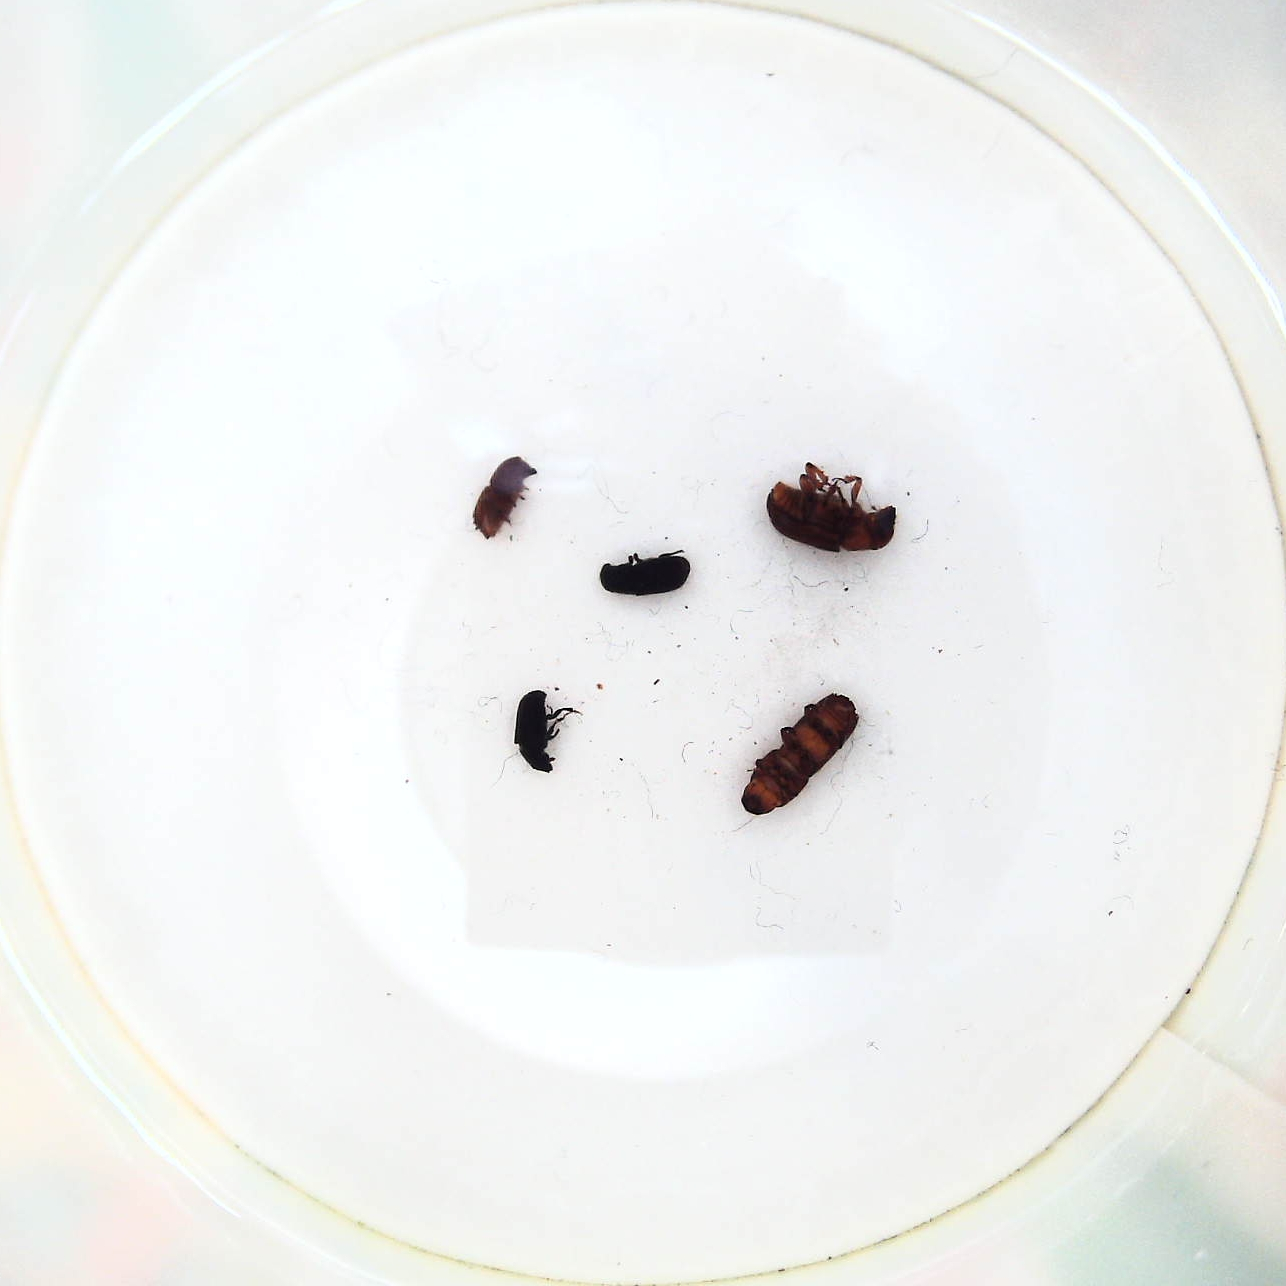Boerner: (740, 690, 866, 818)
Leconte: (761, 460, 900, 561)
armandi: (591, 553, 692, 602)
coleoptera: (510, 688, 578, 775)
linnaeus: (469, 456, 537, 541)
